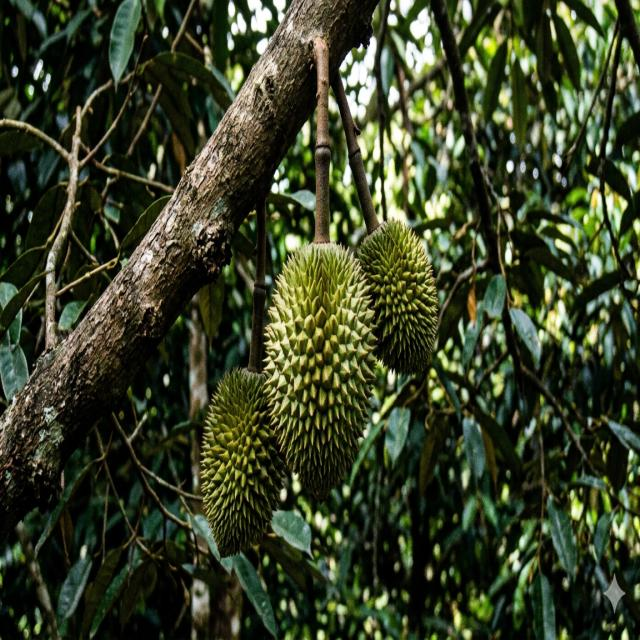immature: (262, 238, 377, 495), (197, 363, 285, 557), (357, 216, 438, 371)
